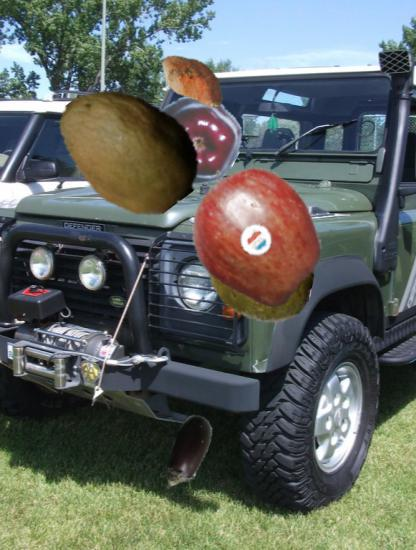Apple: (185, 163, 327, 305), (147, 93, 241, 187)
Eggplant: (147, 413, 230, 496)
Guava: (203, 216, 315, 328)
Papaya: (58, 75, 204, 221)
Potato: (156, 43, 231, 118)
